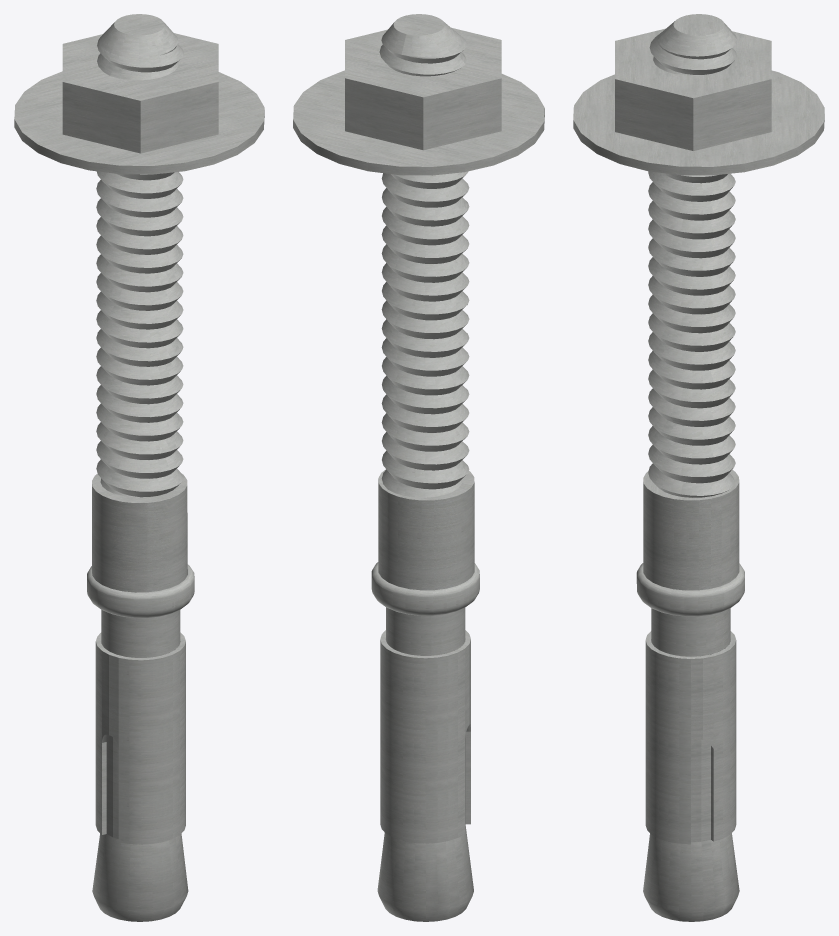
The model's file is bolt_simpson_strong.obj.
3 renders of one model, left to right at view 1: azimuth 30°, elevation 25°; view 2: azimuth 150°, elevation 25°; view 3: azimuth 270°, elevation 25°, orthographic.
Visible parts, largest first — view 1: Mesh4 Group6 Group2 Group1 Simpson_Strong_Bolt_Anchor1 Model, Mesh8 Group10 Group7 Group1 Simpson_Strong_Bolt_Anchor1 Model, Mesh2 Group4 Group2 Group1 Simpson_Strong_Bolt_Anchor1 Model, Mesh1 Group3 Group2 Group1 Simpson_Strong_Bolt_Anchor1 Model, Mesh6 Group8 Group7 Group1 Simpson_Strong_Bolt_Anchor1 Model, Mesh7 Group9 Group7 Group1 Simpson_Strong_Bolt_Anchor1 Model, Mesh9 Group11 Group7 Group1 Simpson_Strong_Bolt_Anchor1 Model, Mesh3 Group5 Group2 Group1 Simpson_Strong_Bolt_Anchor1 Model; view 2: Mesh4 Group6 Group2 Group1 Simpson_Strong_Bolt_Anchor1 Model, Mesh8 Group10 Group7 Group1 Simpson_Strong_Bolt_Anchor1 Model, Mesh2 Group4 Group2 Group1 Simpson_Strong_Bolt_Anchor1 Model, Mesh1 Group3 Group2 Group1 Simpson_Strong_Bolt_Anchor1 Model, Mesh6 Group8 Group7 Group1 Simpson_Strong_Bolt_Anchor1 Model, Mesh7 Group9 Group7 Group1 Simpson_Strong_Bolt_Anchor1 Model, Mesh9 Group11 Group7 Group1 Simpson_Strong_Bolt_Anchor1 Model, Mesh3 Group5 Group2 Group1 Simpson_Strong_Bolt_Anchor1 Model; view 3: Mesh4 Group6 Group2 Group1 Simpson_Strong_Bolt_Anchor1 Model, Mesh8 Group10 Group7 Group1 Simpson_Strong_Bolt_Anchor1 Model, Mesh2 Group4 Group2 Group1 Simpson_Strong_Bolt_Anchor1 Model, Mesh1 Group3 Group2 Group1 Simpson_Strong_Bolt_Anchor1 Model, Mesh6 Group8 Group7 Group1 Simpson_Strong_Bolt_Anchor1 Model, Mesh7 Group9 Group7 Group1 Simpson_Strong_Bolt_Anchor1 Model, Mesh9 Group11 Group7 Group1 Simpson_Strong_Bolt_Anchor1 Model, Mesh3 Group5 Group2 Group1 Simpson_Strong_Bolt_Anchor1 Model.
Part boxes in pixels (left/top/right/bottom): Mesh4 Group6 Group2 Group1 Simpson_Strong_Bolt_Anchor1 Model: left=96, top=171, right=183, bottom=497; Mesh8 Group10 Group7 Group1 Simpson_Strong_Bolt_Anchor1 Model: left=95, top=632, right=185, bottom=844; Mesh2 Group4 Group2 Group1 Simpson_Strong_Bolt_Anchor1 Model: left=62, top=33, right=218, bottom=153; Mesh1 Group3 Group2 Group1 Simpson_Strong_Bolt_Anchor1 Model: left=14, top=71, right=264, bottom=174; Mesh6 Group8 Group7 Group1 Simpson_Strong_Bolt_Anchor1 Model: left=92, top=474, right=187, bottom=592; Mesh7 Group9 Group7 Group1 Simpson_Strong_Bolt_Anchor1 Model: left=92, top=833, right=188, bottom=921; Mesh9 Group11 Group7 Group1 Simpson_Strong_Bolt_Anchor1 Model: left=87, top=564, right=194, bottom=657; Mesh3 Group5 Group2 Group1 Simpson_Strong_Bolt_Anchor1 Model: left=97, top=14, right=183, bottom=80; Mesh4 Group6 Group2 Group1 Simpson_Strong_Bolt_Anchor1 Model: left=381, top=171, right=469, bottom=497; Mesh8 Group10 Group7 Group1 Simpson_Strong_Bolt_Anchor1 Model: left=380, top=630, right=470, bottom=843; Mesh2 Group4 Group2 Group1 Simpson_Strong_Bolt_Anchor1 Model: left=345, top=27, right=501, bottom=150; Mesh1 Group3 Group2 Group1 Simpson_Strong_Bolt_Anchor1 Model: left=293, top=70, right=544, bottom=175; Mesh6 Group8 Group7 Group1 Simpson_Strong_Bolt_Anchor1 Model: left=378, top=469, right=474, bottom=590; Mesh7 Group9 Group7 Group1 Simpson_Strong_Bolt_Anchor1 Model: left=377, top=825, right=473, bottom=921; Mesh9 Group11 Group7 Group1 Simpson_Strong_Bolt_Anchor1 Model: left=371, top=562, right=479, bottom=655; Mesh3 Group5 Group2 Group1 Simpson_Strong_Bolt_Anchor1 Model: left=379, top=14, right=466, bottom=76; Mesh4 Group6 Group2 Group1 Simpson_Strong_Bolt_Anchor1 Model: left=648, top=171, right=735, bottom=497; Mesh8 Group10 Group7 Group1 Simpson_Strong_Bolt_Anchor1 Model: left=645, top=631, right=736, bottom=844; Mesh2 Group4 Group2 Group1 Simpson_Strong_Bolt_Anchor1 Model: left=615, top=28, right=771, bottom=150; Mesh1 Group3 Group2 Group1 Simpson_Strong_Bolt_Anchor1 Model: left=573, top=70, right=824, bottom=175; Mesh6 Group8 Group7 Group1 Simpson_Strong_Bolt_Anchor1 Model: left=643, top=469, right=739, bottom=590; Mesh7 Group9 Group7 Group1 Simpson_Strong_Bolt_Anchor1 Model: left=643, top=833, right=739, bottom=921; Mesh9 Group11 Group7 Group1 Simpson_Strong_Bolt_Anchor1 Model: left=636, top=563, right=744, bottom=656; Mesh3 Group5 Group2 Group1 Simpson_Strong_Bolt_Anchor1 Model: left=649, top=14, right=737, bottom=75.
Bounding box in the file's own units: 1.15 × 4.46 × 1.15.
